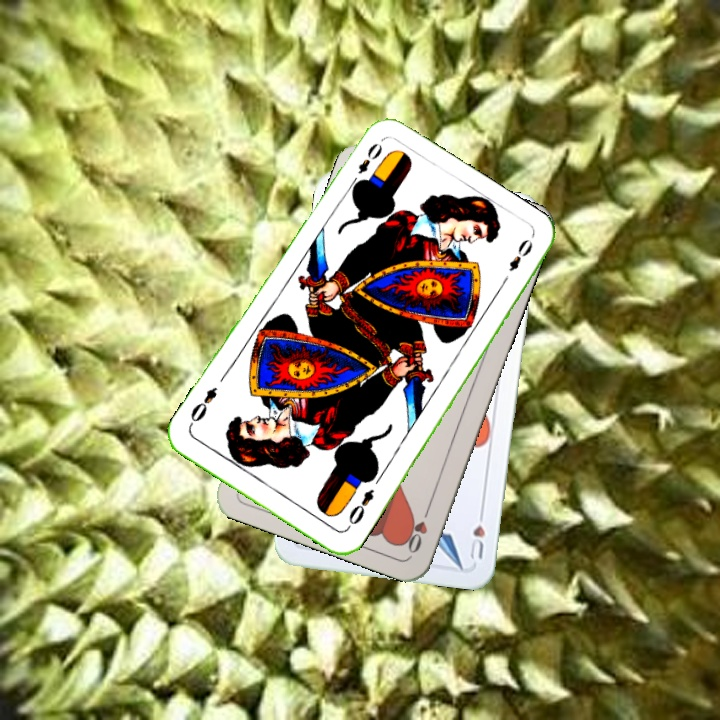EO: (346, 138, 385, 190), (342, 485, 377, 532)
HO: (401, 500, 434, 556)
HU: (466, 505, 488, 561)
